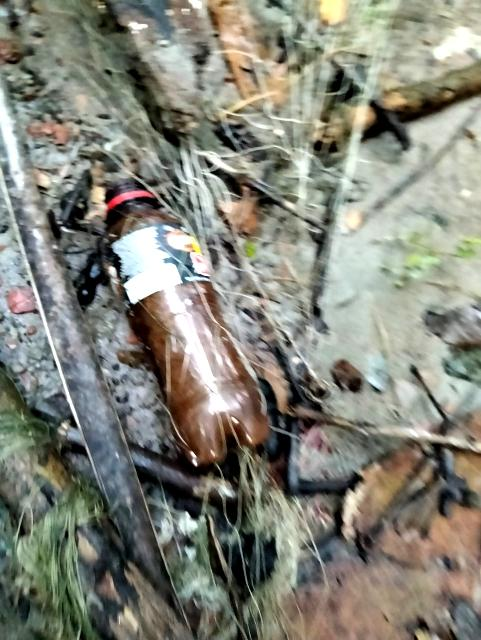bottle: (44, 158, 308, 495)
